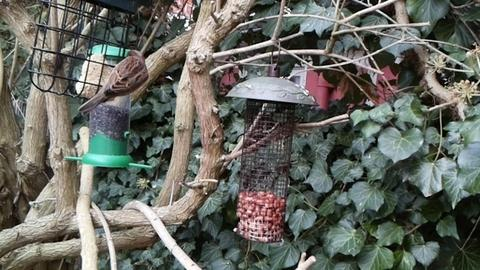sparrow: (78, 48, 150, 117)
